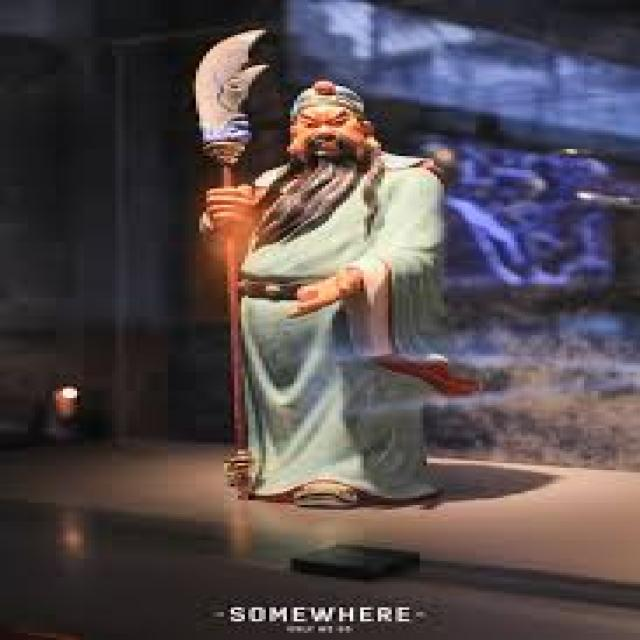Guan Yu: (193, 27, 452, 514)
